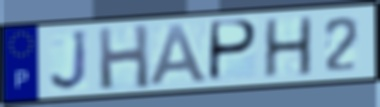2: (323, 15, 361, 74)
A: (147, 22, 212, 87)
H: (95, 22, 152, 92), (262, 14, 315, 80)
J: (48, 28, 91, 93)
P: (206, 18, 260, 84)
